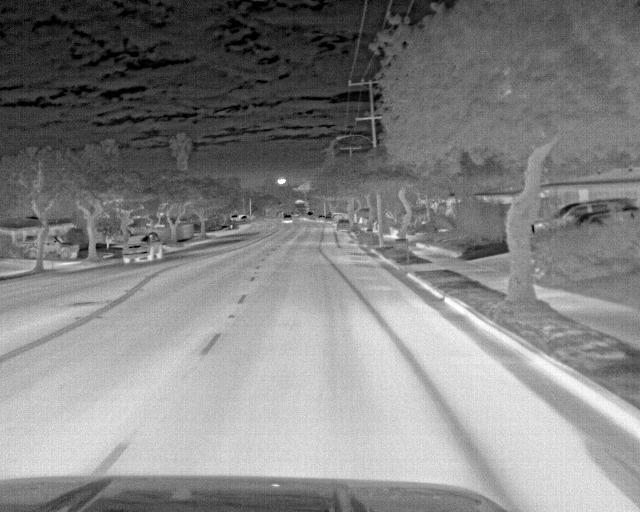car: (530, 194, 638, 236), (122, 230, 165, 264), (334, 217, 353, 234), (281, 211, 295, 223)
